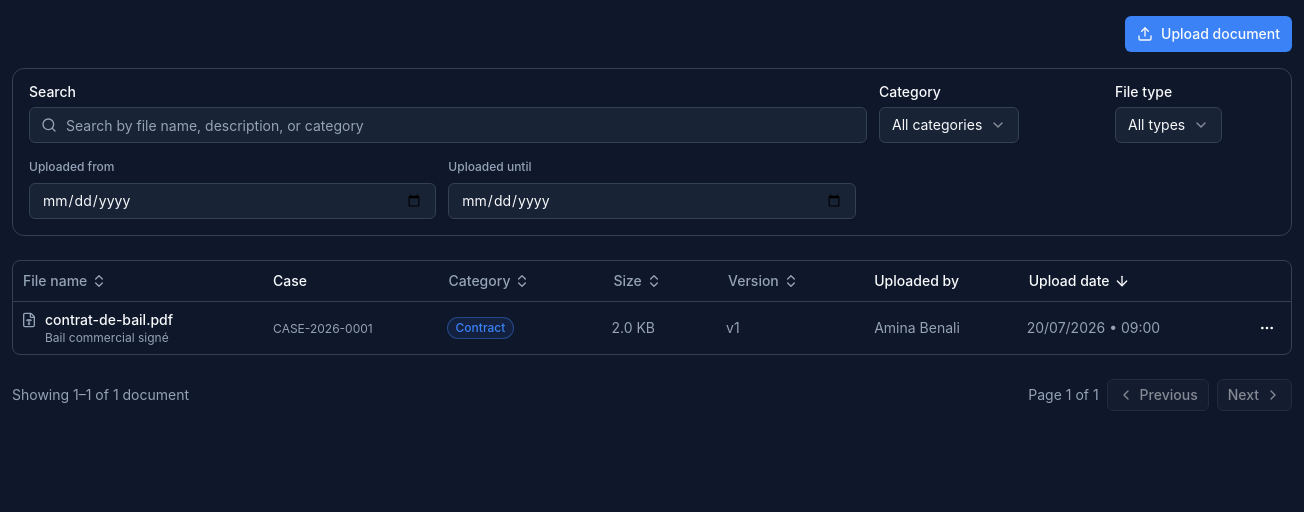
Test: DocumentList row actions › hides Replace and Delete from lawyer, who holds neither permission
Expected: the button "contrat-de-bail.pdf" is shown, [45,310,173,330]
Click the button named "Actions for contrat-de-bail.pdf" at (1267, 328), box [1251,312,1283,344]
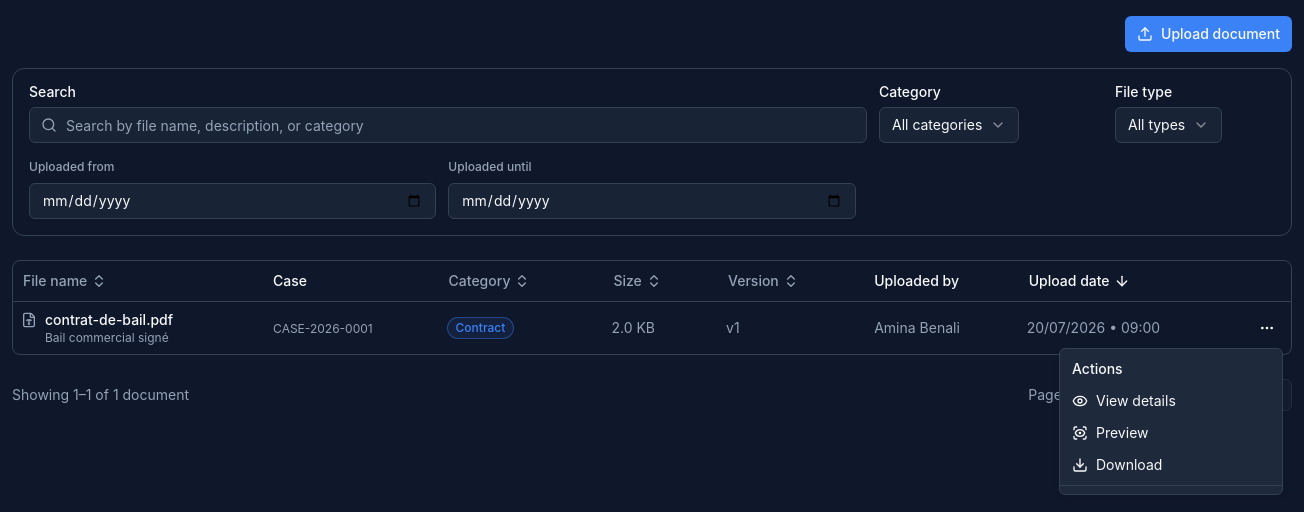
Expected: the menu item "Download" is shown, [1072,456,1162,473]
